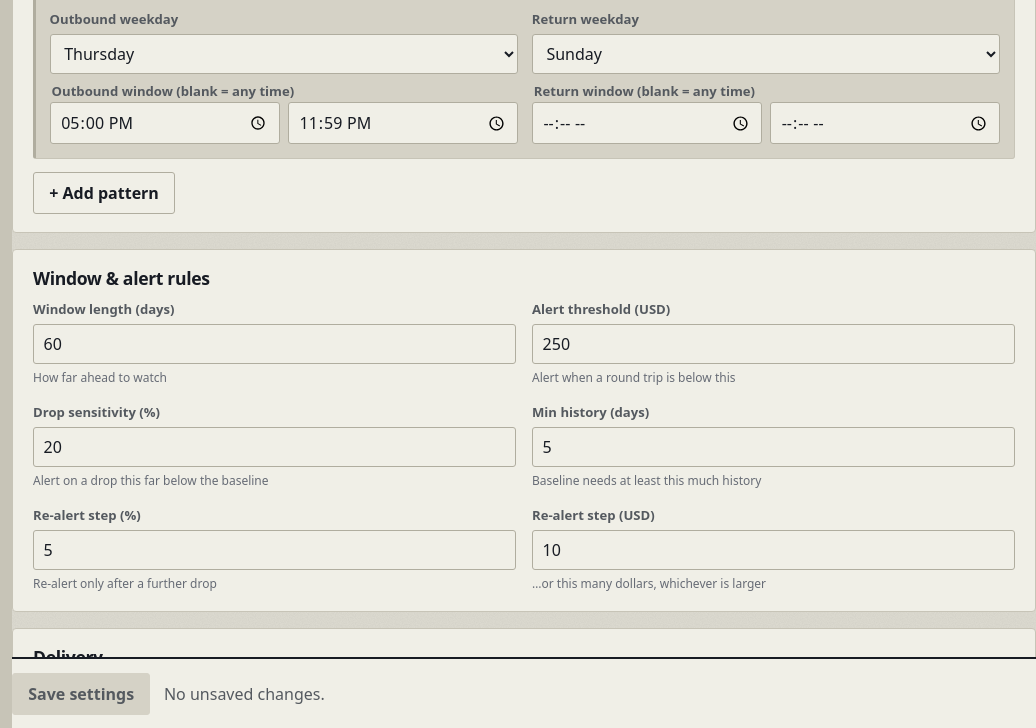
Test case: SettingsForm › blocks save on an invalid threshold
(page scrolled)
Replace the text in the number field labelled "Alert threshold (USD)" with "0": (774, 344) [532,324,1015,364]
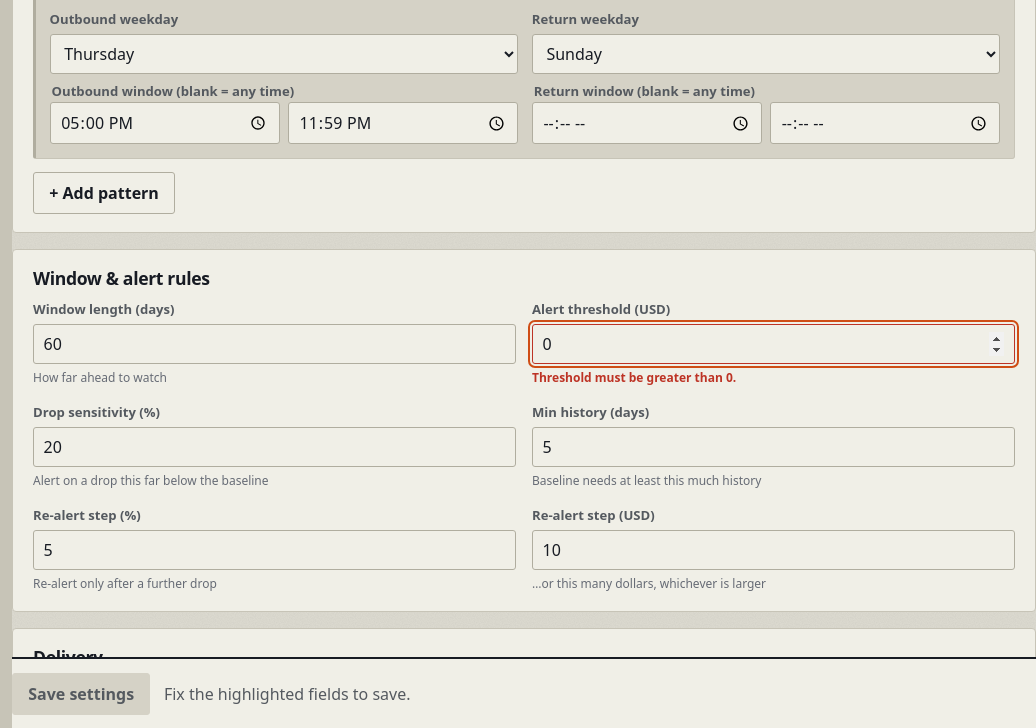
Check: the button "Save settings" is disabled, box [12,672,150,714]
Check: the text "Threshold must be greater than 0." is shown, box [532,369,736,386]
